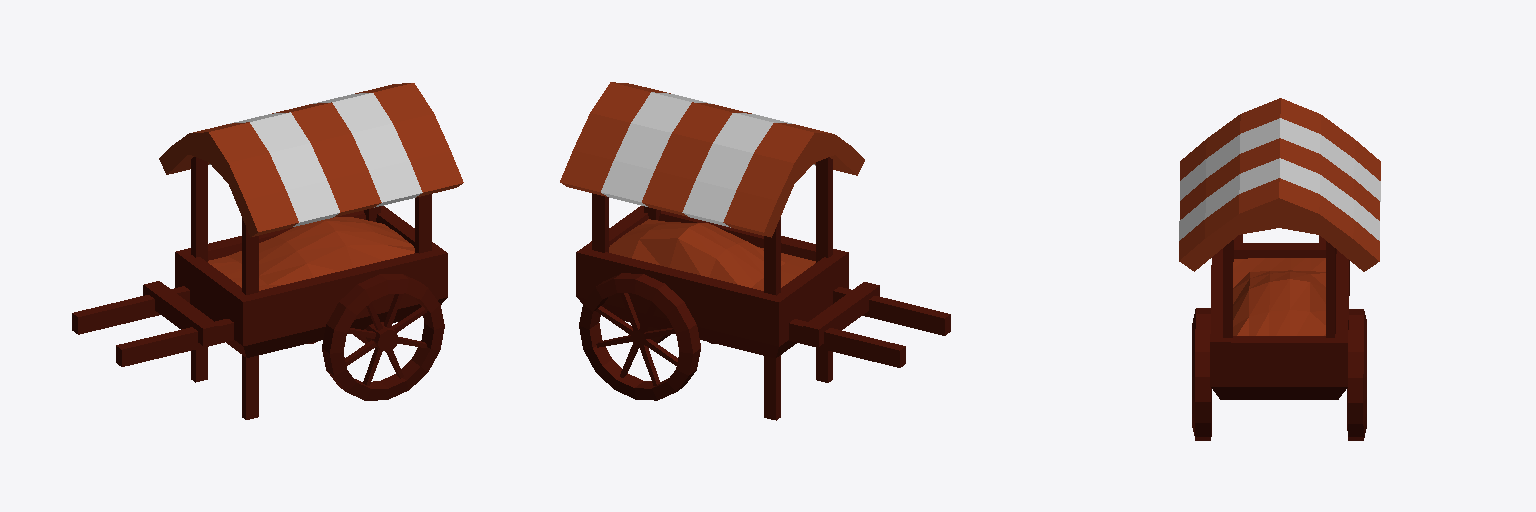
File: cart.obj
3 renders of one model, left to right at view 1: azimuth 30°, elevation 25°; view 2: azimuth 150°, elevation 25°; view 3: azimuth 270°, elevation 25°, orthographic.
Parts seen in each view (by area): view 1: market; view 2: market; view 3: market.
Boxes of the visible parts, x1,y1,x2,y2 form: market: [72, 83, 463, 419]; market: [560, 82, 950, 420]; market: [1179, 98, 1380, 440].
Size of the model in its own units: 0.5158 by 0.4201 by 0.285.